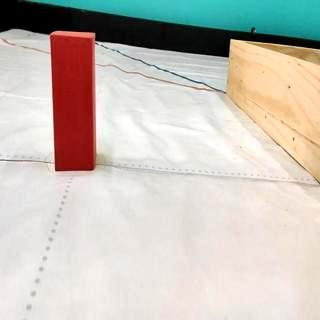redbox: (49, 30, 96, 172)
